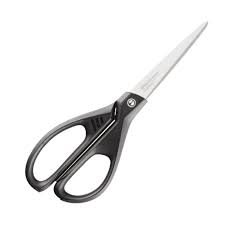tihiras: (20, 18, 210, 204)
